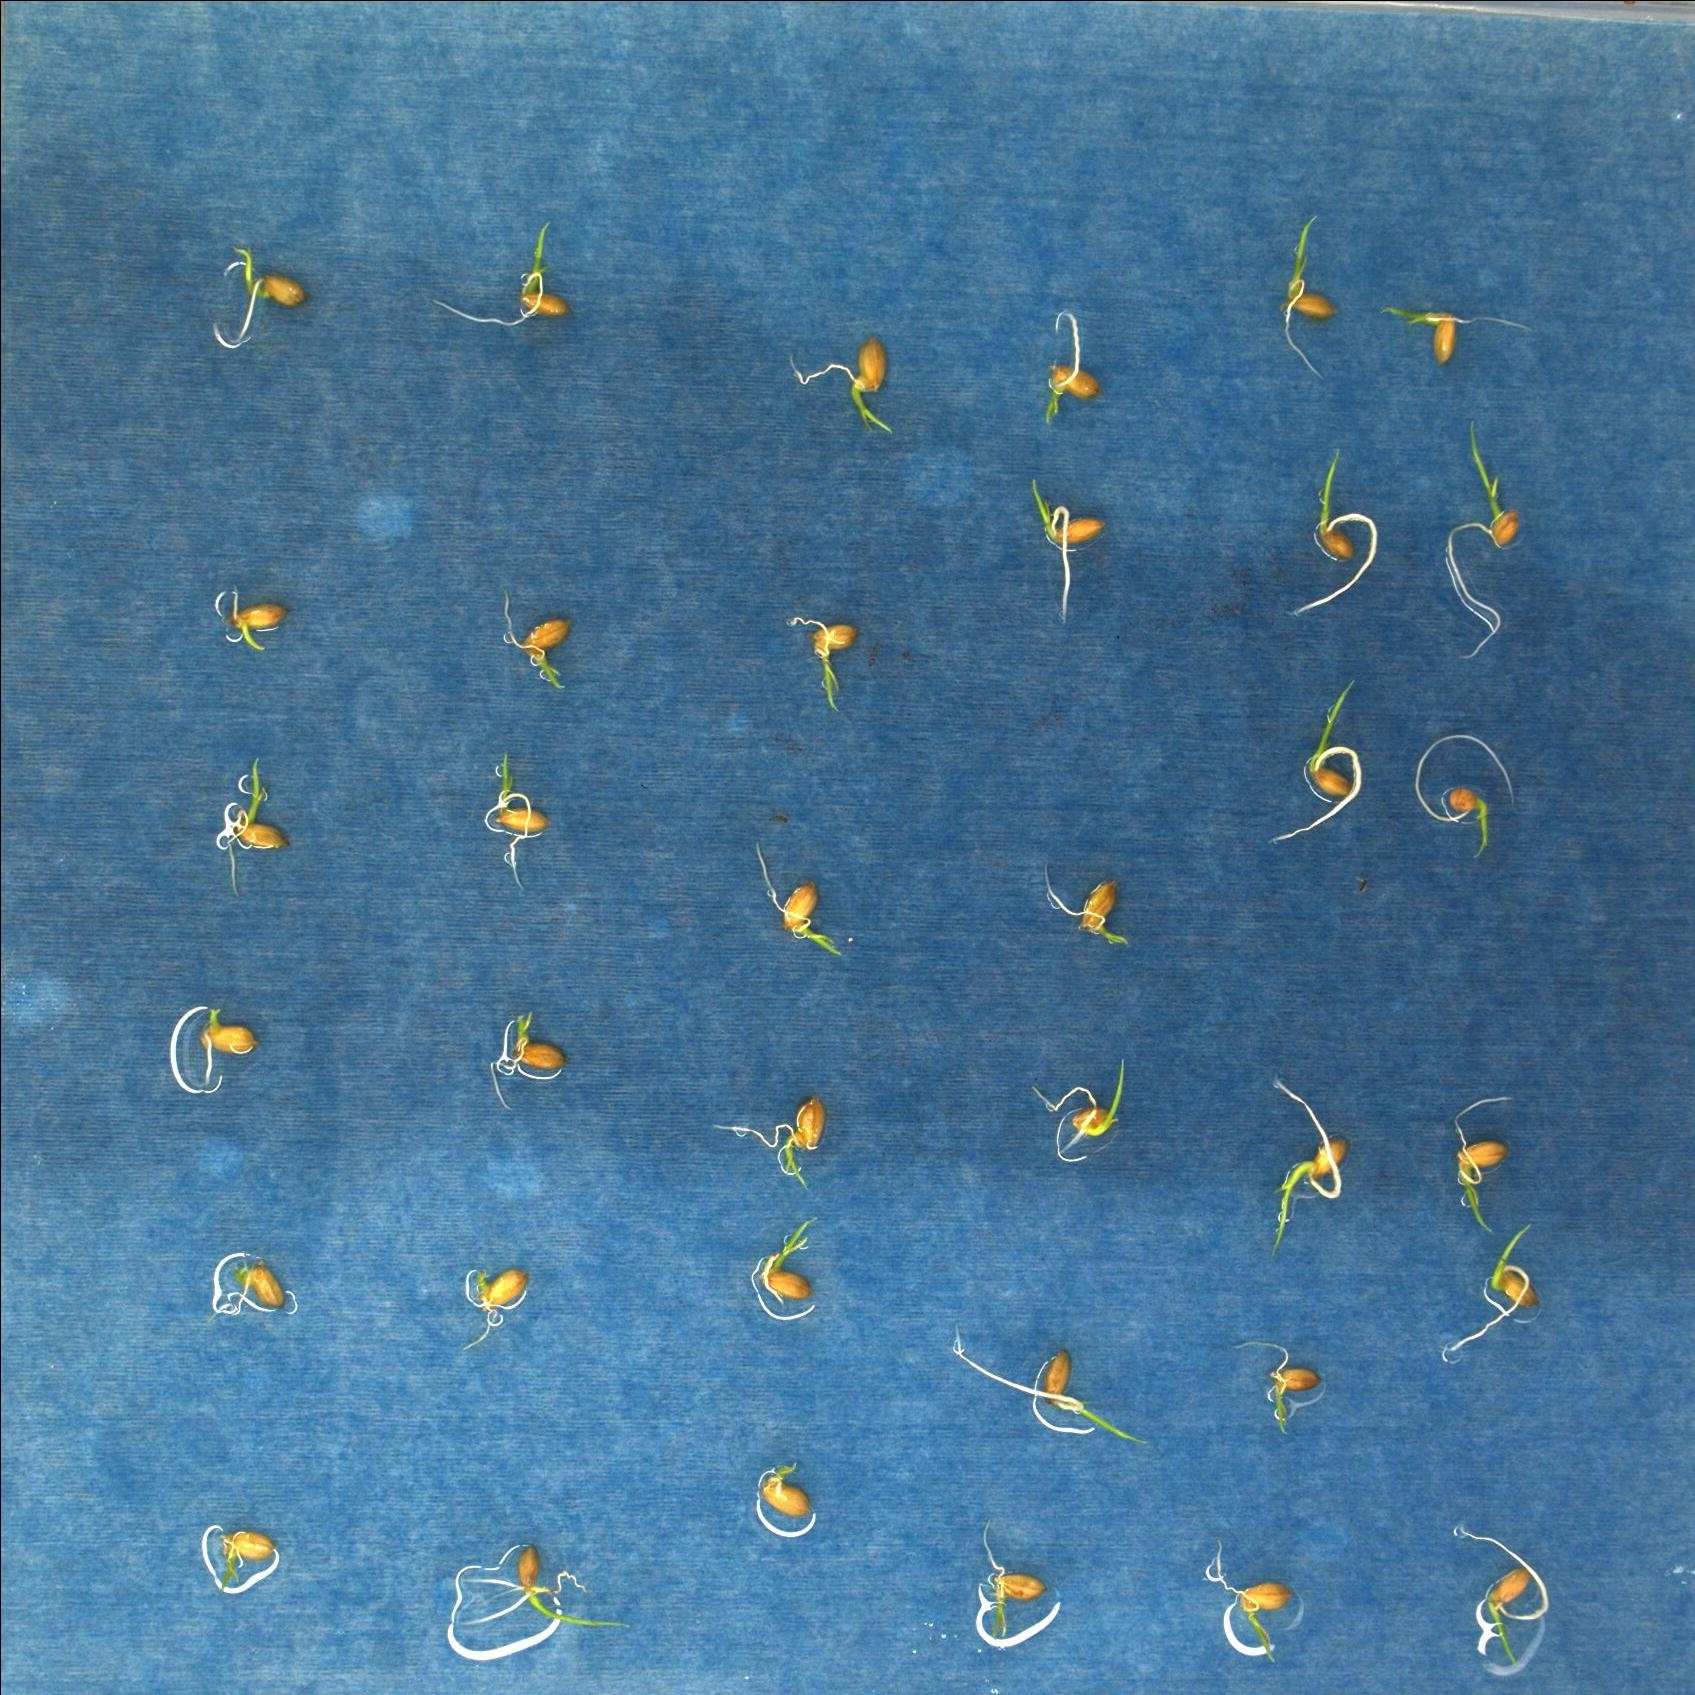not sprout: (461, 1260, 536, 1354), (213, 1243, 287, 1327), (200, 998, 265, 1083), (759, 1458, 826, 1520)
sprout: (950, 1330, 1142, 1451), (1442, 422, 1523, 653), (445, 1537, 640, 1628), (1450, 1516, 1554, 1678), (1260, 674, 1361, 840), (1287, 447, 1381, 622), (1267, 1077, 1354, 1254), (430, 222, 574, 328), (1437, 1218, 1538, 1366), (1412, 731, 1518, 855), (1206, 1537, 1305, 1666), (787, 331, 905, 438), (972, 1515, 1063, 1652), (1031, 1054, 1132, 1169), (211, 754, 290, 897), (1031, 475, 1107, 621), (751, 837, 843, 958), (717, 1091, 829, 1187), (1277, 206, 1338, 383), (1375, 304, 1530, 366), (497, 590, 582, 702), (486, 754, 554, 893), (1445, 1091, 1506, 1242), (484, 1007, 574, 1108), (1236, 1340, 1329, 1434), (750, 1215, 829, 1326), (1042, 307, 1108, 430), (785, 607, 861, 712), (236, 247, 314, 335), (1040, 871, 1128, 948), (210, 582, 293, 657), (211, 1527, 275, 1599)
